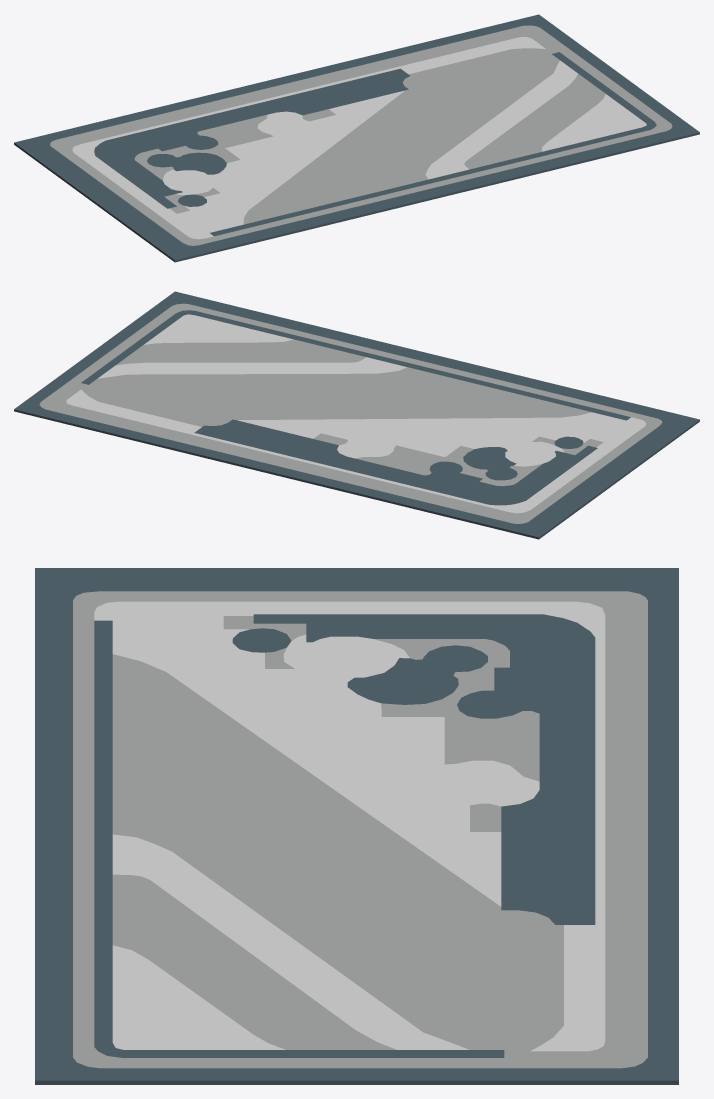
The picture shows the model from 3 angles, top to bottom: view 1: azimuth 30°, elevation 25°; view 2: azimuth 150°, elevation 25°; view 3: azimuth 270°, elevation 25°; orthographic projection. The views are drawn at different scales.
Visible parts, largest first — view 1: world; view 2: world; view 3: world.
Boxes of the visible parts, x1=… form: world: x1=14, y1=14, x2=699, y2=262; world: x1=14, y1=291, x2=699, y2=539; world: x1=35, y1=568, x2=678, y2=1084.
Bounding box in the file's own units: 0.0256 × 0.0001 × 0.0136.
